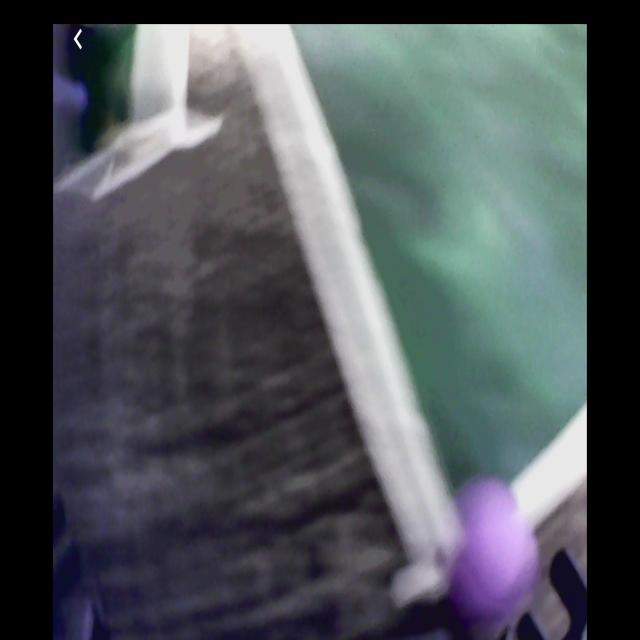ball: (452, 484, 538, 625)
